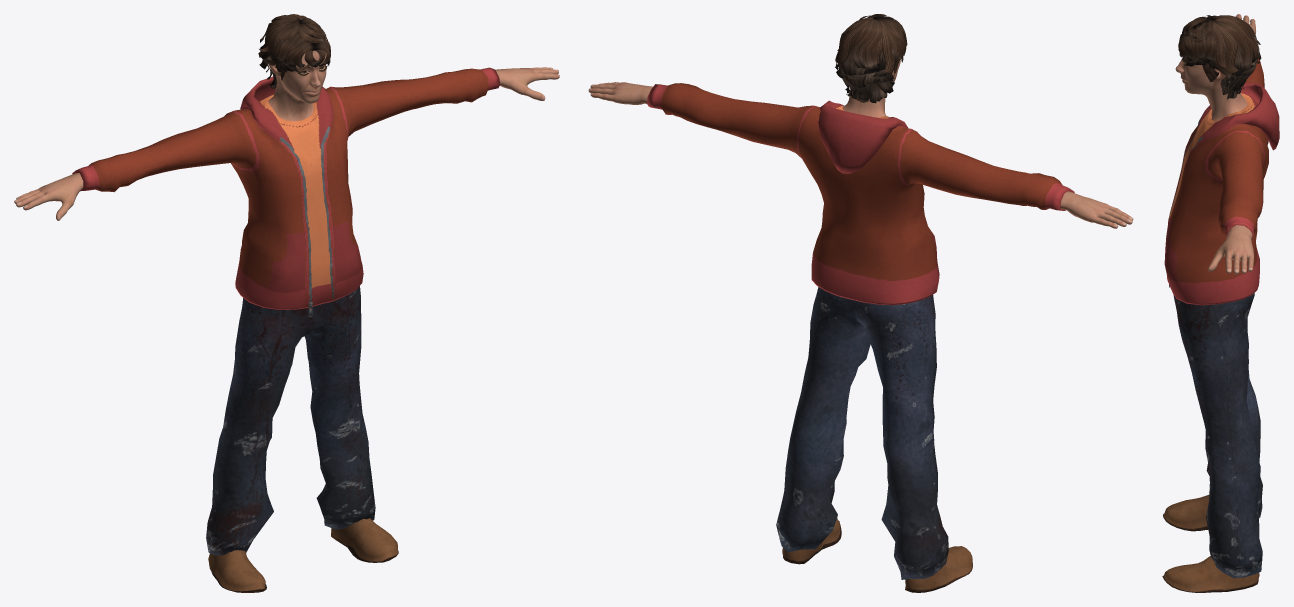
Rendered from big_eyes.obj.
3 views of the same model, side by side, from view 1: azimuth 30°, elevation 25°; view 2: azimuth 150°, elevation 25°; view 3: azimuth 270°, elevation 25° (orthographic).
Parts seen in each view (by area): view 1: Tops, Bottoms, BodyParts, Shoes, Hair; view 2: Tops, Bottoms, Hair, BodyParts, Shoes; view 3: Tops, Bottoms, Hair, BodyParts, Shoes.
Boxes of the visible parts, x1,y1,x2,y2 form: Tops: (72,67,499,316); Bottoms: (206,286,375,555); BodyParts: (14,50,559,220); Shoes: (208,489,398,592); Hair: (258,14,330,89); Tops: (647,83,1074,305); Bottoms: (776,287,948,579); Hair: (835,14,907,103); BodyParts: (588,60,1133,228); Shoes: (782,509,972,592); Tops: (1164,58,1279,305); Bottoms: (1173,293,1262,578); Hair: (1178,15,1261,99); BodyParts: (1175,14,1255,274); Shoes: (1162,495,1259,592).
Bounding box in the file's own units: 187 × 180 × 35.54.
